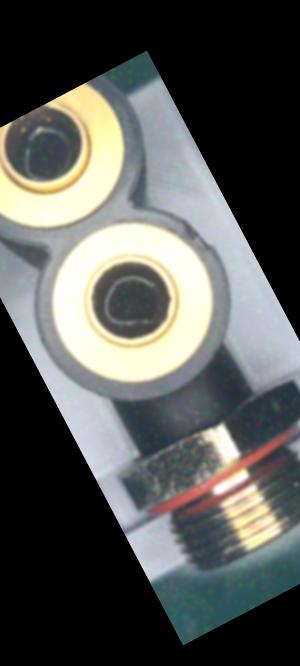bump: (175, 205, 224, 264), (1, 151, 2, 210)
joint line: (176, 387, 197, 416)
off-centered: (2, 108, 93, 196), (87, 259, 175, 346)
